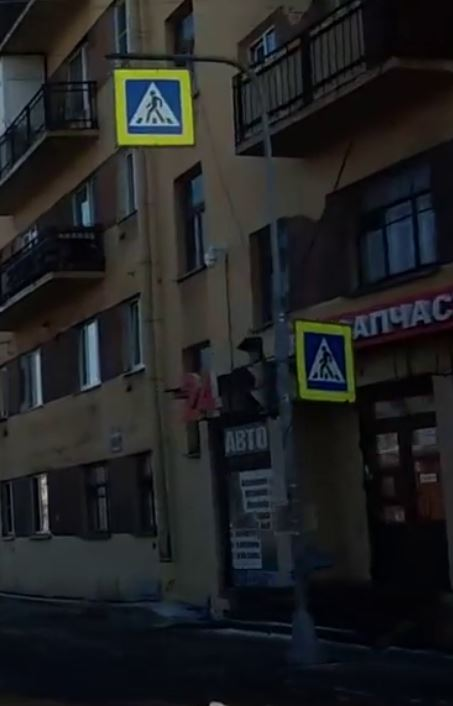Yaya Gecidi: (126, 78, 184, 134), (302, 331, 351, 395)
